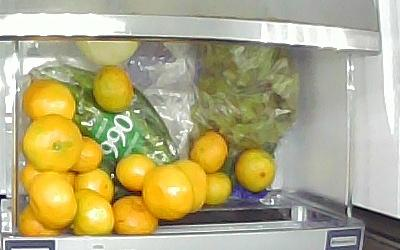tangerine: (24, 115, 82, 172), (28, 173, 78, 228), (144, 167, 193, 219), (67, 191, 115, 236), (24, 79, 75, 120), (92, 65, 134, 112), (236, 148, 278, 192), (112, 195, 158, 234), (173, 160, 206, 213), (21, 163, 77, 192), (190, 131, 228, 173), (116, 153, 158, 190), (18, 204, 63, 238), (76, 169, 114, 202), (69, 135, 101, 170), (205, 174, 233, 206)
